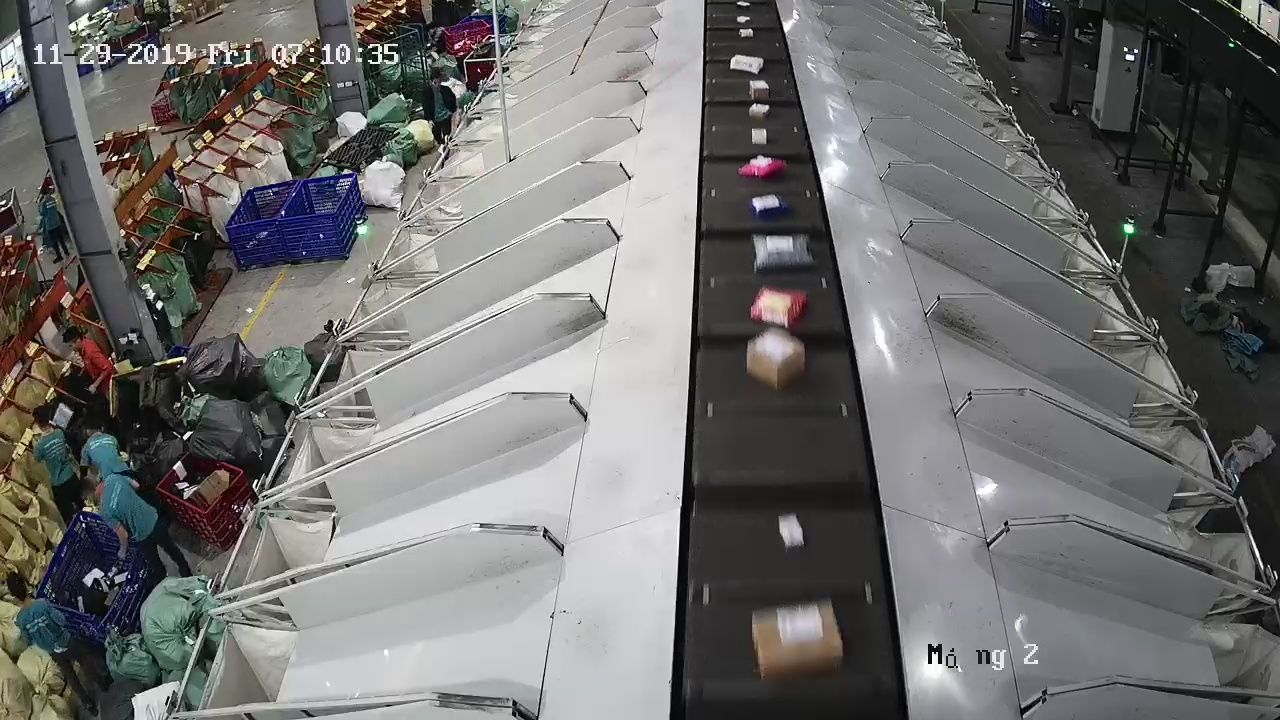parcel: (751, 597, 844, 682), (745, 326, 806, 392), (751, 232, 817, 274), (749, 284, 808, 328), (736, 154, 788, 180), (748, 192, 790, 219), (778, 512, 805, 552), (748, 102, 771, 120), (751, 127, 768, 145)
